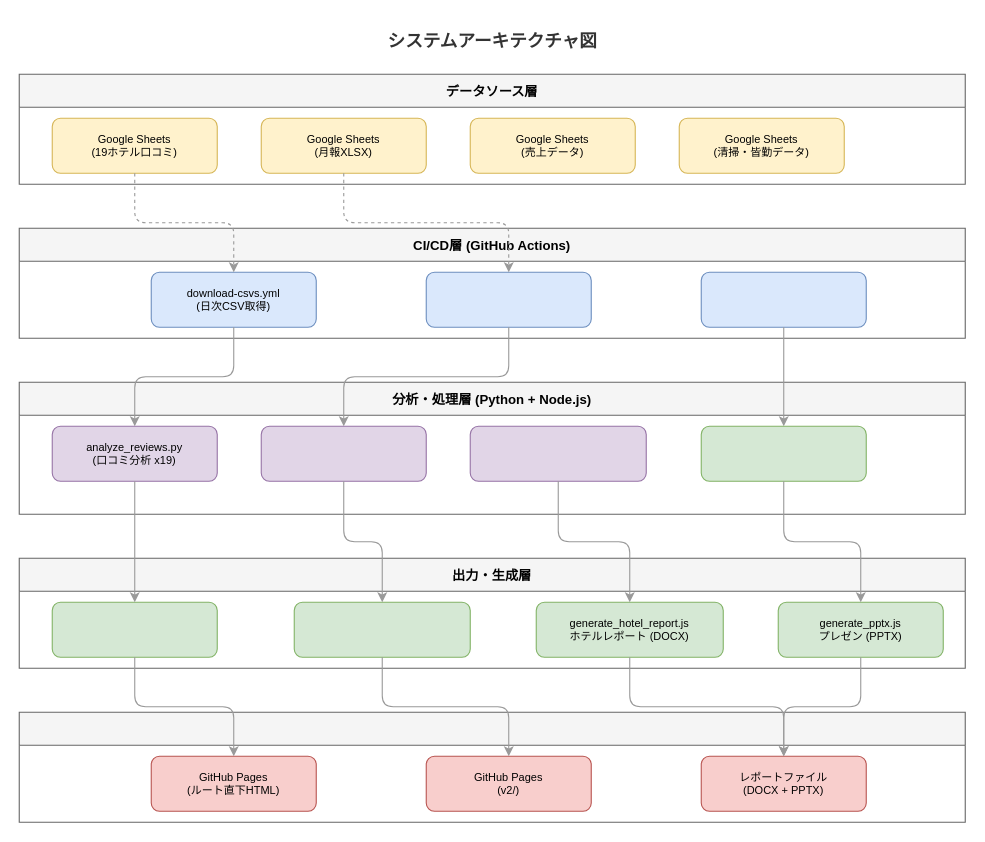
Image size: 985x842. Some labels were removed from this diagram. The shapes that lost their labels are listed below. From the top down, each one's box as (x1, y1, x2, y2) in pixels, then its label:
(425, 271, 591, 327): download-csvs.yml (日次XLSX取得)
(700, 271, 866, 327): update_all.sh (パイプライン実行)
(260, 425, 426, 481): analysis_1-7_extract.py (深掘り分析)
(469, 425, 646, 481): aggregate_portfolio.py (ポートフォリオ集約)
(700, 425, 866, 481): delta-engine.js (前日比差分計算)
(51, 601, 217, 657): build_all.js V1ダッシュボード (5P)
(293, 601, 470, 657): build_all_v2.js V2ダッシュボード (11P)
(18, 711, 965, 822): 配信層
